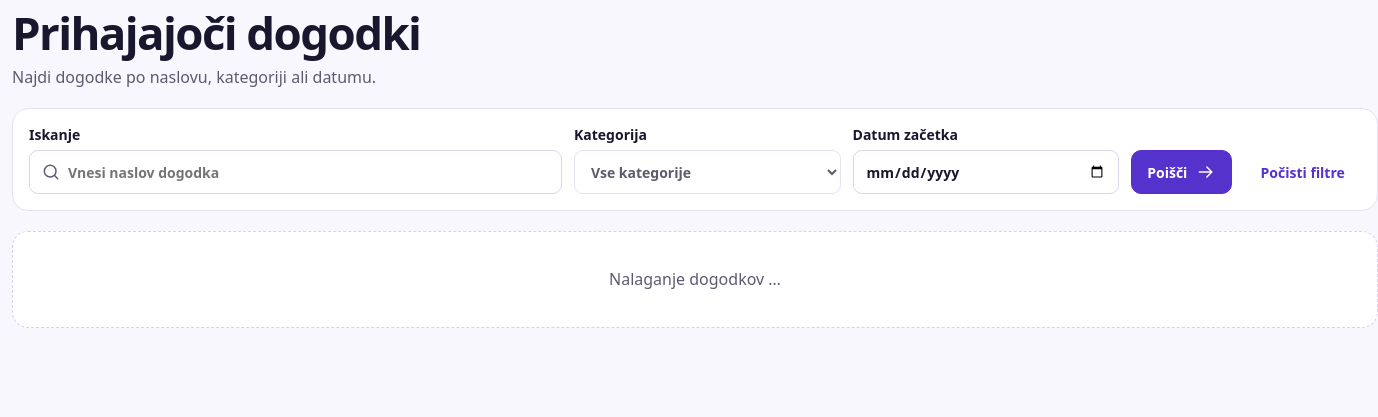
Test: Javni dogodki › Prikaže sporočilo, kadar iskanje nima zadetkov
This screenshot has width=1378, height=417.
Type "Neobstojec dogodek" into the search field with placeholder "Vnesi naslov dogodka" at [296, 172], box [29,150,562,194]
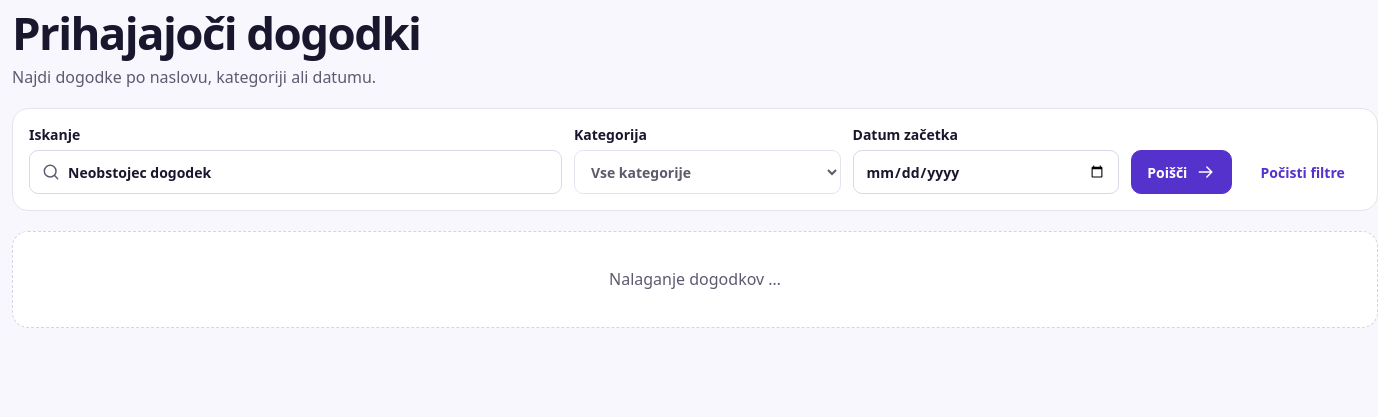
Click the button "Poišči" at [1182, 172], box [1131,150,1232,194]
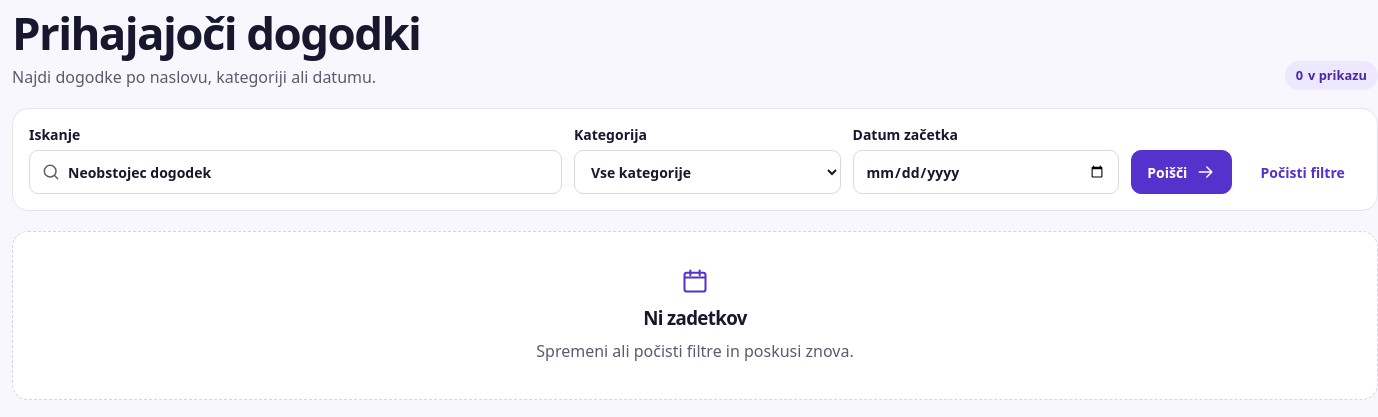
Result: the heading "Ni zadetkov" is shown at [643,305,747,330]
